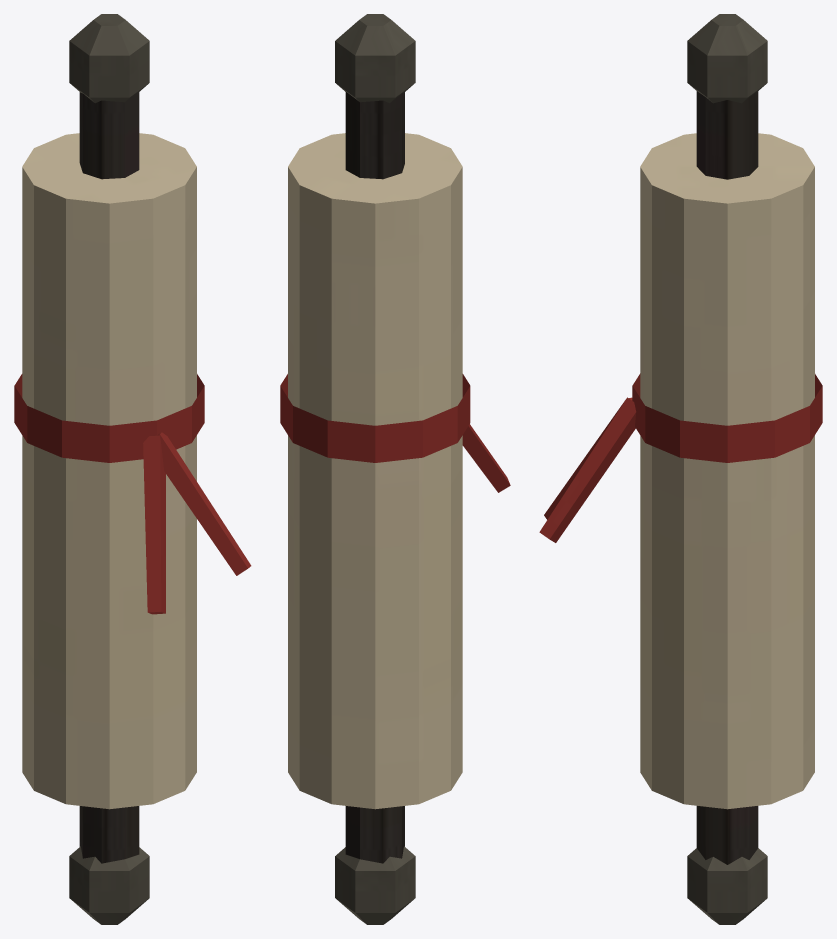
File: wpn_scroll_01.glb
3 views of the same model, side by side, from view 1: azimuth 30°, elevation 25°; view 2: azimuth 150°, elevation 25°; view 3: azimuth 270°, elevation 25° (orthographic).
Parts seen in each view (by area): view 1: wpn_scroll_01; view 2: wpn_scroll_01; view 3: wpn_scroll_01.
Boxes of the visible parts, bbox=[...] form: wpn_scroll_01: bbox=[14, 14, 251, 924]; wpn_scroll_01: bbox=[280, 14, 510, 924]; wpn_scroll_01: bbox=[539, 14, 822, 924].
Bounding box in the file's own units: 0.074 × 0.386 × 0.1102.
Materials: 4 (4 with a texture image).
